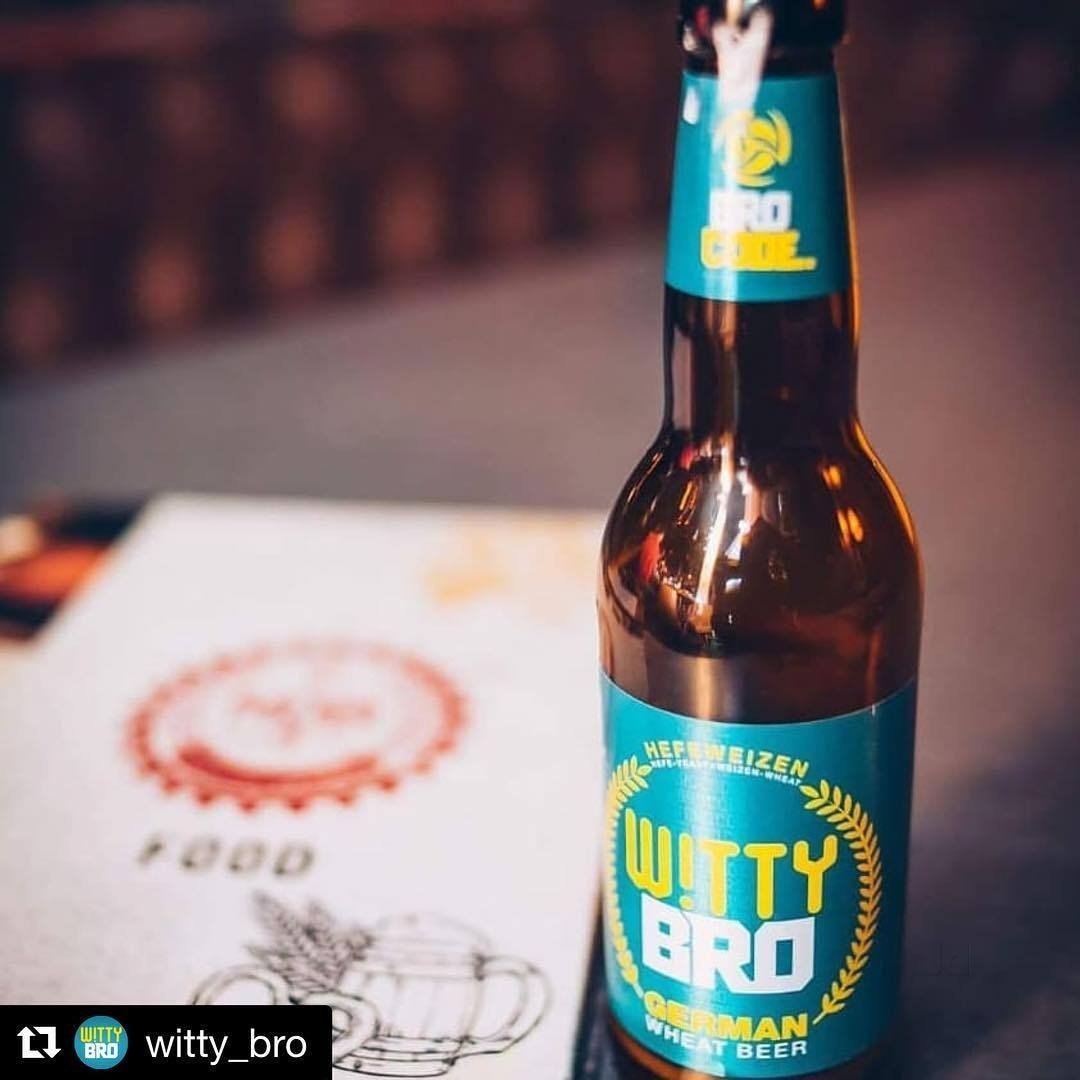beerBottle: (599, 31, 915, 1080)
